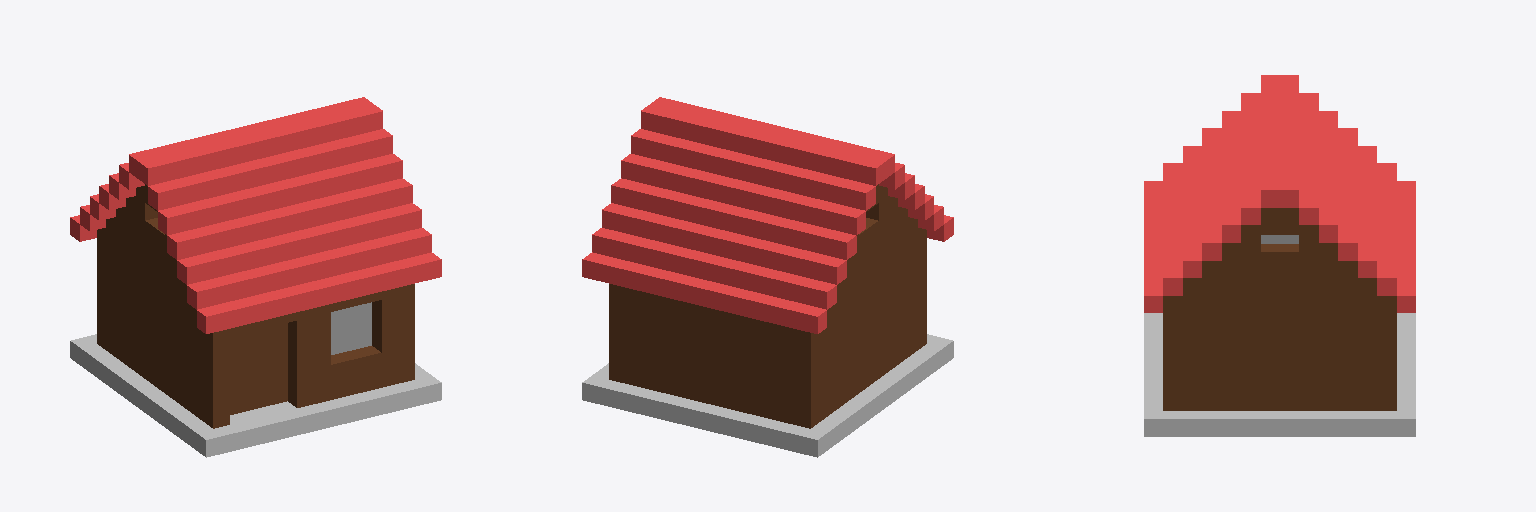
3 renders of one model, left to right at view 1: azimuth 30°, elevation 25°; view 2: azimuth 150°, elevation 25°; view 3: azimuth 270°, elevation 25°, orthographic.
Parts seen in each view (by area): view 1: object 1; view 2: object 1; view 3: object 1.
Boxes of the visible parts, x1,y1,x2,y2 form: object 1: [70, 97, 441, 457]; object 1: [582, 97, 953, 457]; object 1: [1144, 75, 1415, 436].
Bounding box in the file's own units: 1.4 × 1.4 × 1.4.
1 materials, 1 textured.